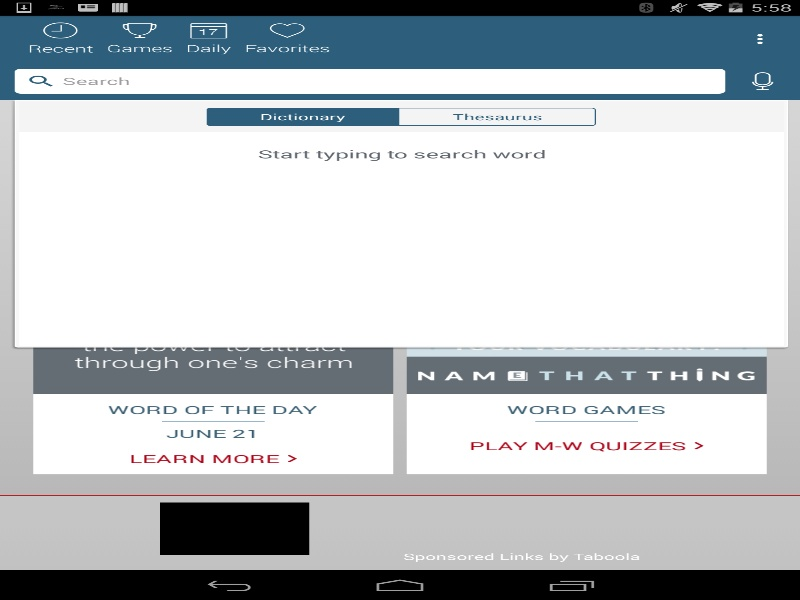Input: (14, 68, 725, 93)
